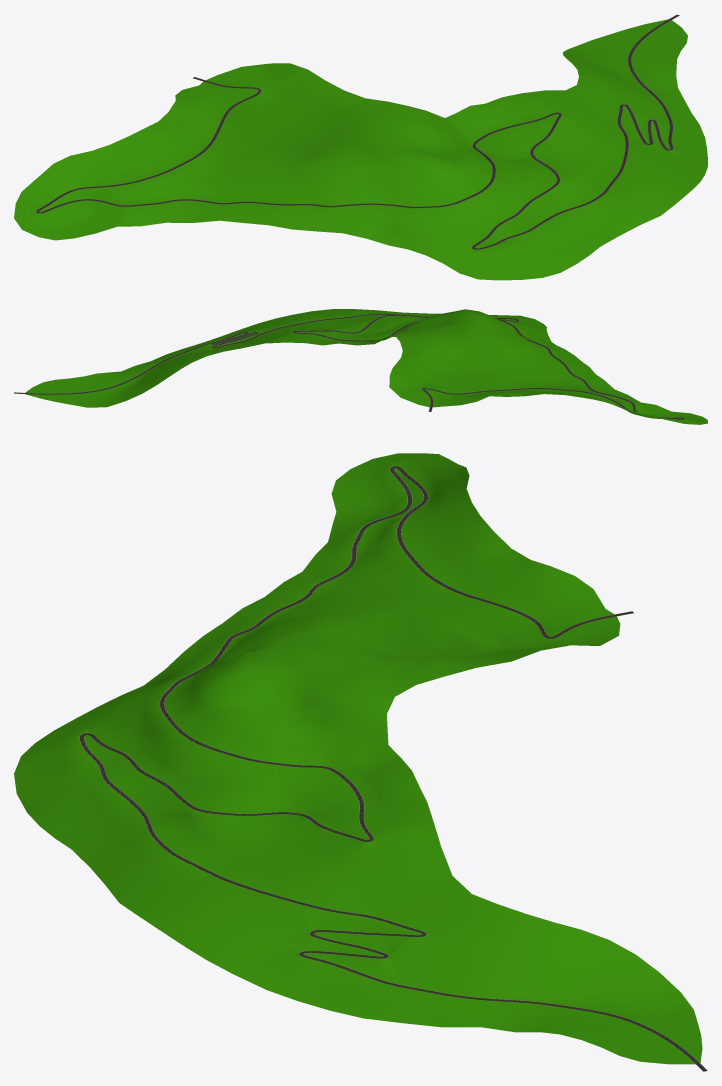
Rendered from Mountain Pass.fbx.
The picture shows the model from 3 angles, top to bottom: view 1: azimuth 30°, elevation 25°; view 2: azimuth 150°, elevation 25°; view 3: azimuth 270°, elevation 25°; orthographic projection. The views are drawn at different scales.
Parts seen in each view (by area): view 1: Landscape, Road; view 2: Landscape, Road; view 3: Landscape, Road.
Part boxes in pixels (x1,y1,x2,y2): Landscape: [14, 19, 707, 280]; Road: [36, 14, 679, 249]; Landscape: [25, 309, 707, 424]; Road: [14, 314, 684, 419]; Landscape: [14, 453, 702, 1064]; Road: [79, 466, 707, 1071].
Bounding box in the file's own units: 2597 × 328 × 1447.
4 materials, 4 textured.
